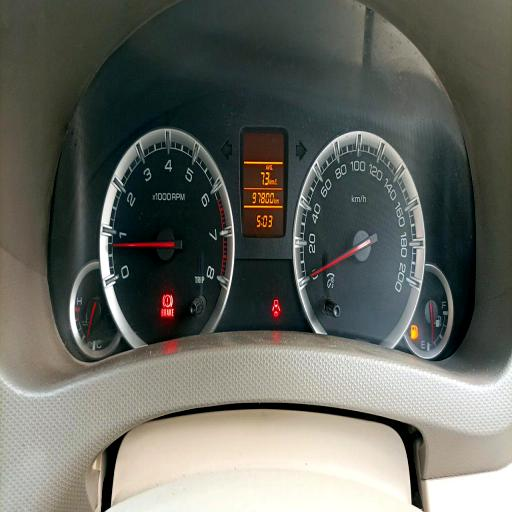brake_system_fault: (162, 292, 173, 308)
tachometer: (100, 127, 235, 348)
